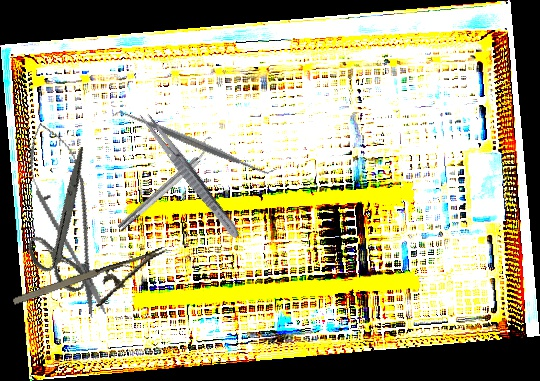Dressing Forceps: (135, 108, 244, 242)
Fixation Ring: (111, 135, 224, 236)
Iris Scissors: (0, 146, 132, 303)
Micro Scissor: (15, 115, 124, 324)
Needle Holder: (10, 246, 178, 330)
Spatula Surgical: (111, 99, 279, 186)
